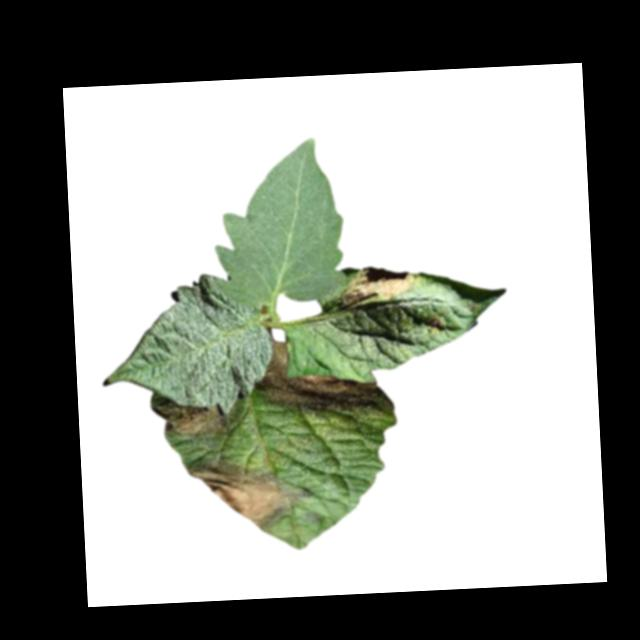Late_blight: (255, 334, 395, 423), (185, 456, 312, 536), (338, 264, 418, 309), (154, 402, 230, 440)
healthy: (99, 269, 268, 420), (207, 136, 348, 308)
